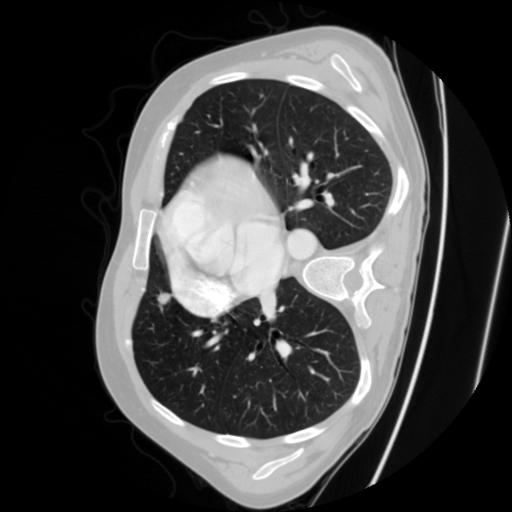nodule: (153, 290, 174, 311)
